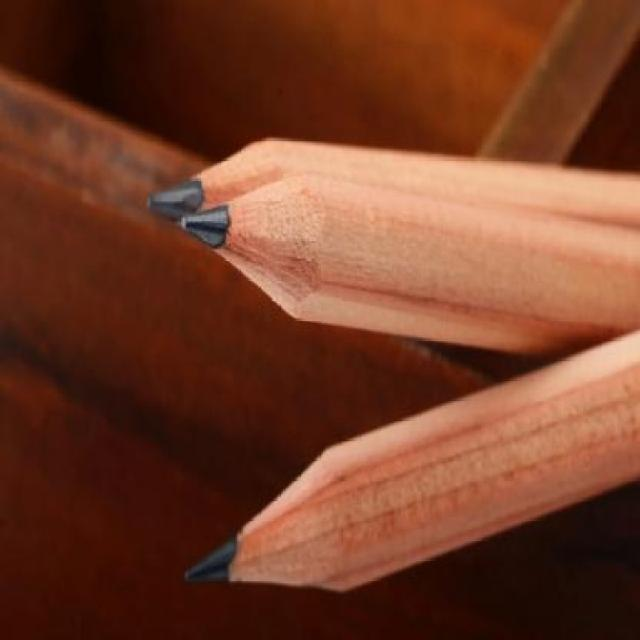pencil: (181, 328, 640, 602), (177, 172, 640, 357), (143, 132, 640, 224)
